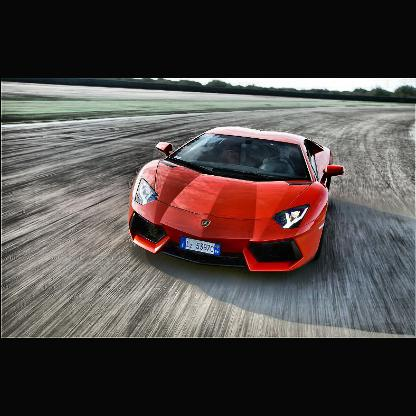Lamborghini Aventador Coupe 2012: (126, 124, 348, 274)
